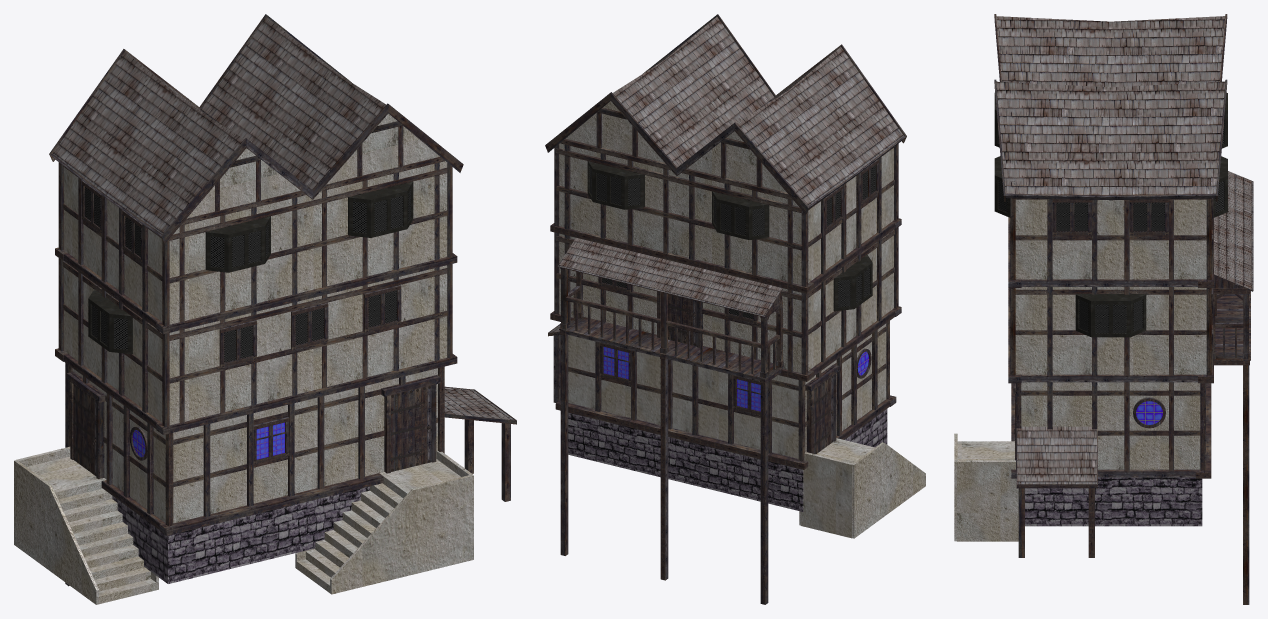
The model's file is house23.dae.
3 views of the same model, side by side, from view 1: azimuth 30°, elevation 25°; view 2: azimuth 150°, elevation 25°; view 3: azimuth 270°, elevation 25° (orthographic). The views are drawn at different scales.
Visible parts, largest first — view 1: House4_Roof, House4_Level3, House4_Level2, House4_Level1, House4_Level3_Beams, House4_Level0, House4_Level2_Beams, Stair1Wide1_001, House4_Level1_Beams, Stair1Wide, Stair1Wide2, Stair1Wide_001 (+24 smaller); view 2: House4_Roof, House4_Level3, House4_Level1, House4_Level3_Beams, House4_Level0, House4_Level2, Balcony1Roof, House4_Level1_Beams, Balcony1Stilts, House4_Level2_Beams, Balcony1, Stair1Wide2 (+21 smaller); view 3: House4_Roof, House4_Level2, House4_Level3, House4_Level1, House4_Level0, Stair1WideBack_001, Roof2Outer, House4_Level2_Beams, House4_Level3_Beams, House4_Level1_Beams, Balcony1Roof, Balcony1 (+17 smaller).
Part boxes in pixels (x1,y1,x2,y2): House4_Roof: (53,17,385,233); House4_Level3: (64,113,447,324); House4_Level2: (64,261,447,425); House4_Level1: (72,368,437,523); House4_Level3_Beams: (58,121,452,326); House4_Level0: (112,486,369,583); House4_Level2_Beams: (58,258,452,426); Stair1Wide1_001: (330,474,473,594); House4_Level1_Beams: (68,365,444,526); Stair1Wide: (27,456,156,604); Stair1Wide2: (14,460,98,604); Stair1Wide_001: (297,459,460,592); House4_Roof: (612,17,903,206); House4_Level3: (559,101,893,285); House4_Level1: (568,323,886,458); House4_Level3_Beams: (554,107,898,286); House4_Level0: (568,409,887,511); House4_Level2: (559,233,893,373); Balcony1Roof: (558,237,782,316); House4_Level1_Beams: (568,321,889,461); Balcony1Stilts: (560,334,768,604); House4_Level2_Beams: (554,227,898,374); Balcony1: (558,266,783,379); Stair1Wide2: (852,442,925,538); House4_Roof: (996,16,1225,195); House4_Level2: (1015,287,1206,374); House4_Level3: (1015,199,1206,279); House4_Level1: (1021,382,1200,469); House4_Level0: (1025,477,1202,526); Stair1WideBack_001: (957,460,1018,541); Roof2Outer: (1017,426,1096,484); House4_Level2_Beams: (1010,287,1213,375); House4_Level3_Beams: (1010,181,1213,280); House4_Level1_Beams: (1016,382,1205,471); Balcony1Roof: (1214,171,1253,290); Balcony1: (1213,274,1252,360).
Bounding box in the file's own units: 11.13 × 7.5 × 13.96.
21 materials, 21 textured.
